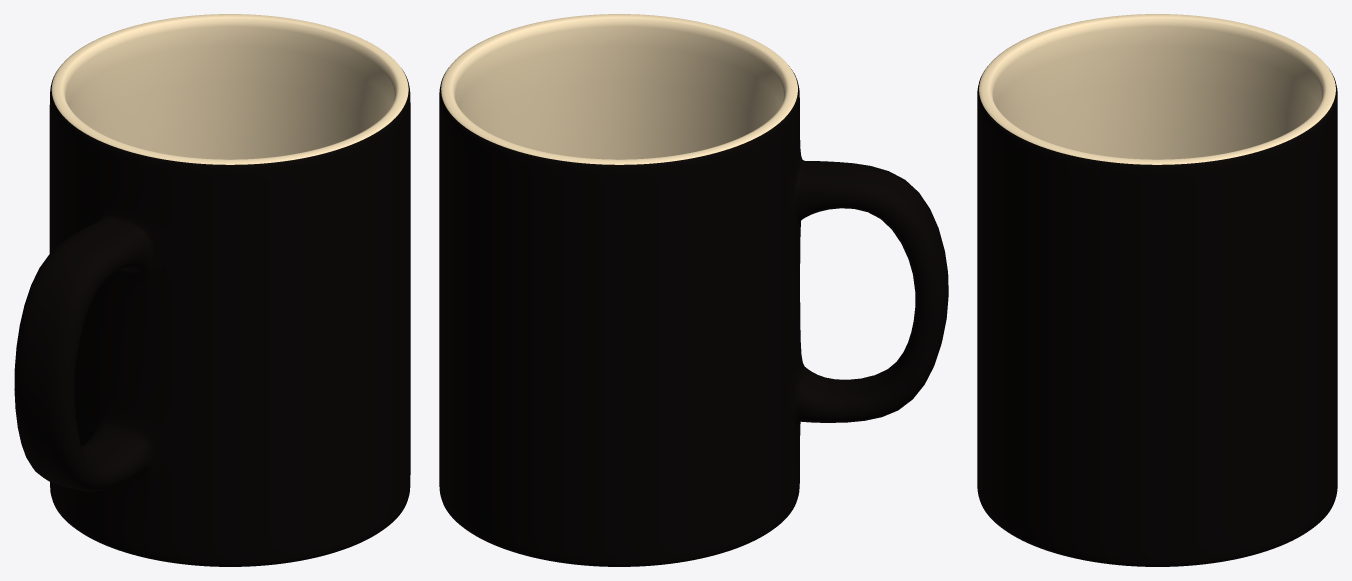
Rendered from mug.obj.
3 renders of one model, left to right at view 1: azimuth 30°, elevation 25°; view 2: azimuth 150°, elevation 25°; view 3: azimuth 270°, elevation 25°, orthographic.
Parts seen in each view (by area): view 1: cooffe_mug_Cylinder; view 2: cooffe_mug_Cylinder; view 3: cooffe_mug_Cylinder.
Part boxes in pixels (left/top/right/bottom): cooffe_mug_Cylinder: left=14, top=14, right=410, bottom=566; cooffe_mug_Cylinder: left=439, top=14, right=948, bottom=566; cooffe_mug_Cylinder: left=977, top=14, right=1337, bottom=566.
Bounding box in the file's own units: 3.03 × 2.77 × 2.23.
